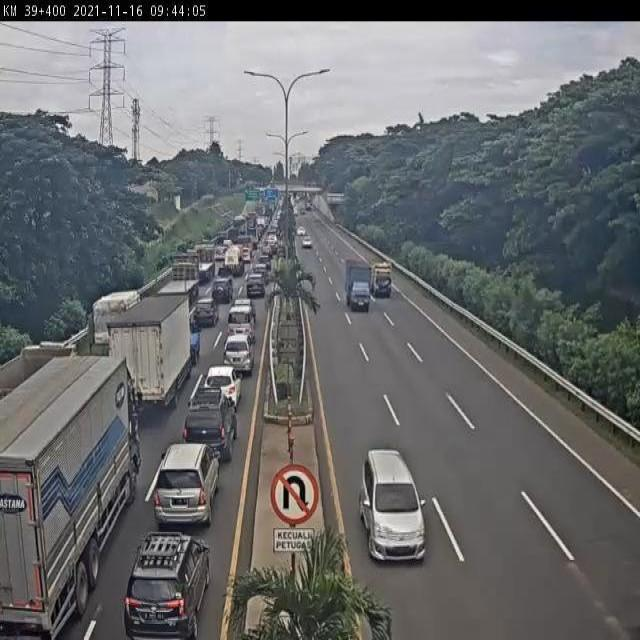Car: (124, 532, 210, 639), (152, 442, 221, 528), (182, 390, 237, 464), (202, 365, 244, 410), (223, 332, 255, 376), (227, 300, 256, 333), (193, 296, 219, 328), (211, 276, 234, 304), (246, 274, 266, 298), (302, 236, 312, 248), (297, 226, 305, 236)
Truck: (0, 358, 140, 638), (107, 294, 190, 407), (156, 251, 199, 296), (344, 260, 371, 312), (193, 242, 216, 279), (373, 262, 394, 298), (222, 243, 244, 275)
Van: (359, 448, 426, 561)
